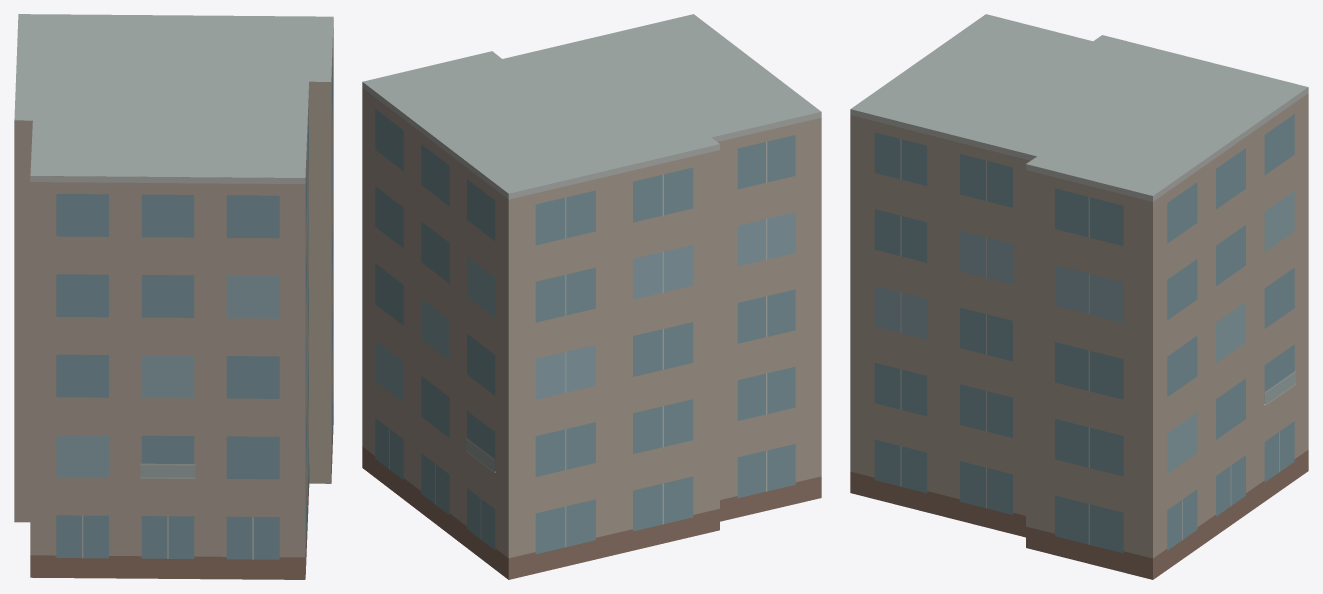
The model's file is survey-upis-32687992.glb.
3 renders of one model, left to right at view 1: azimuth 30°, elevation 25°; view 2: azimuth 150°, elevation 25°; view 3: azimuth 270°, elevation 25°, orthographic. The views are drawn at different scales.
Visible parts, largest first — view 1: survey-upis-32687992.tmp; view 2: survey-upis-32687992.tmp; view 3: survey-upis-32687992.tmp.
Boxes of the visible parts, x1=… form: survey-upis-32687992.tmp: x1=14, y1=14, x2=333, y2=579; survey-upis-32687992.tmp: x1=362, y1=14, x2=821, y2=579; survey-upis-32687992.tmp: x1=850, y1=14, x2=1308, y2=579.
Size of the model in its own units: 16.28 by 16 by 17.32.
